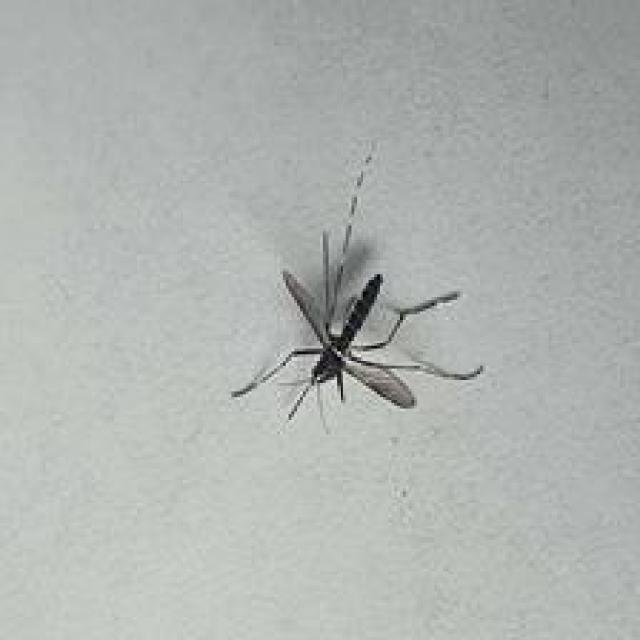Aedes albopictus: (230, 153, 484, 433)
